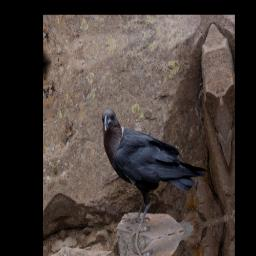Crow: (100, 82, 213, 250)
